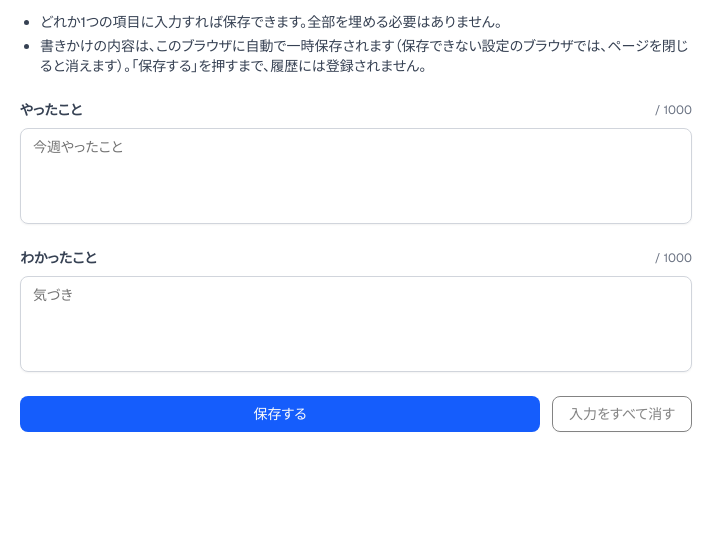
Test case: ReflectionForm 保存フロー › 入力が空のまま保存すると送信せず、入力を促す
The image size is (713, 534).
Click the button "保存する". click: click(280, 414)
box: [20,396,540,432]
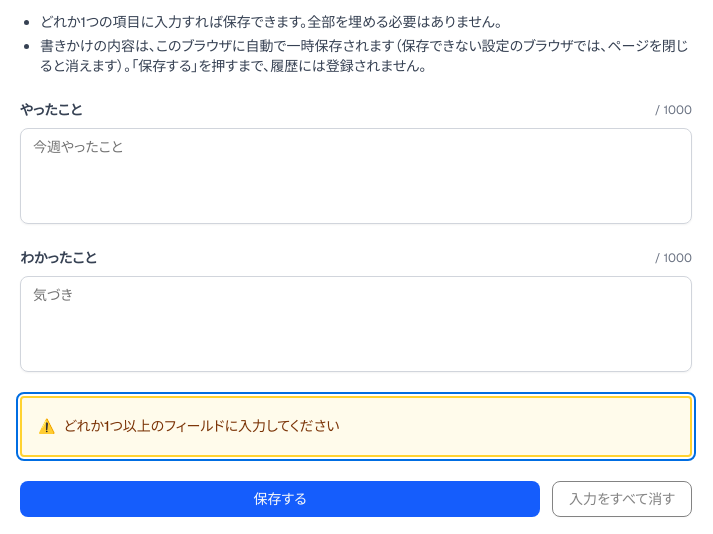
Expected: the text "どれか1つ以上のフィールドに入力してください" is shown, [64,417,339,435]
